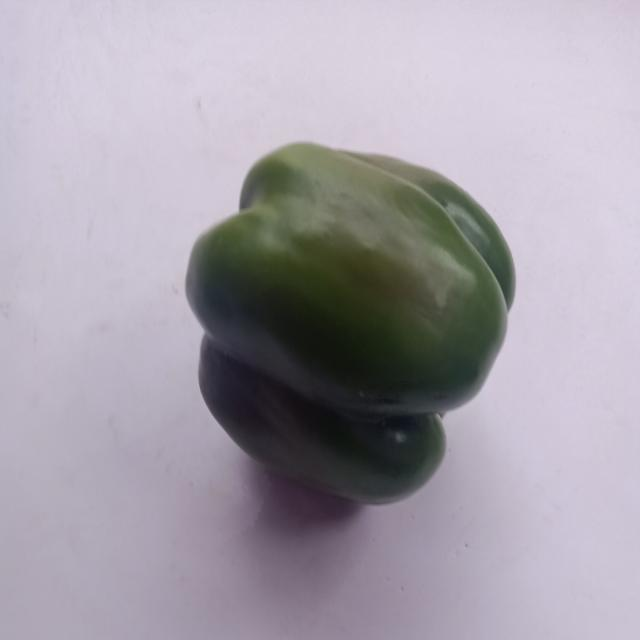Capsicum: (163, 105, 525, 548)
